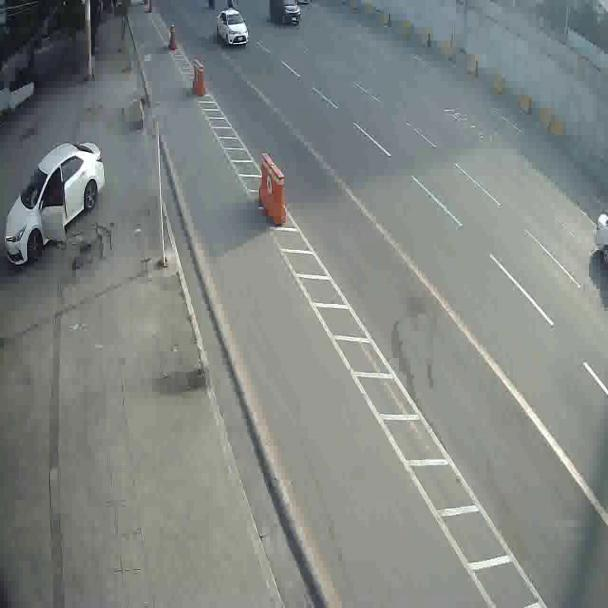vehicle: (7, 136, 98, 271), (218, 5, 248, 47), (268, 0, 301, 26)
